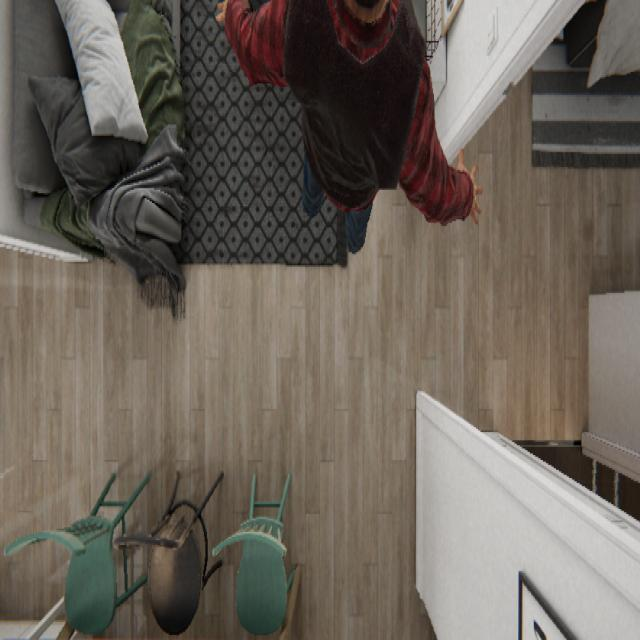Human: (215, 0, 482, 254)
